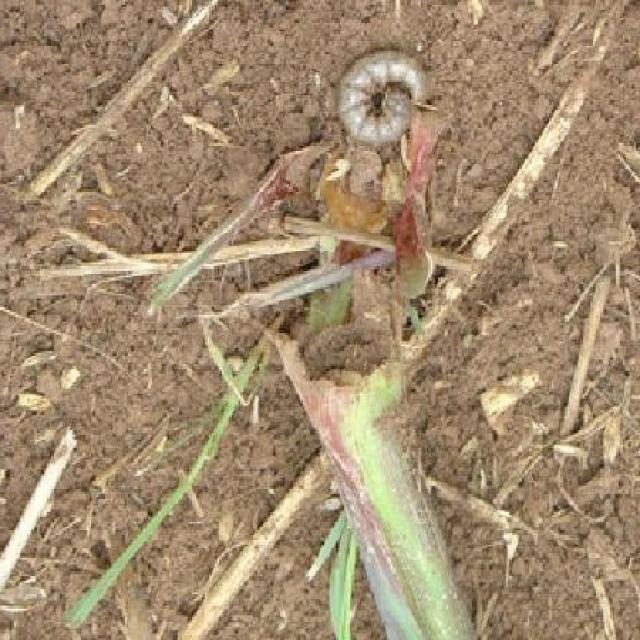black cutworm: (328, 48, 432, 145)
